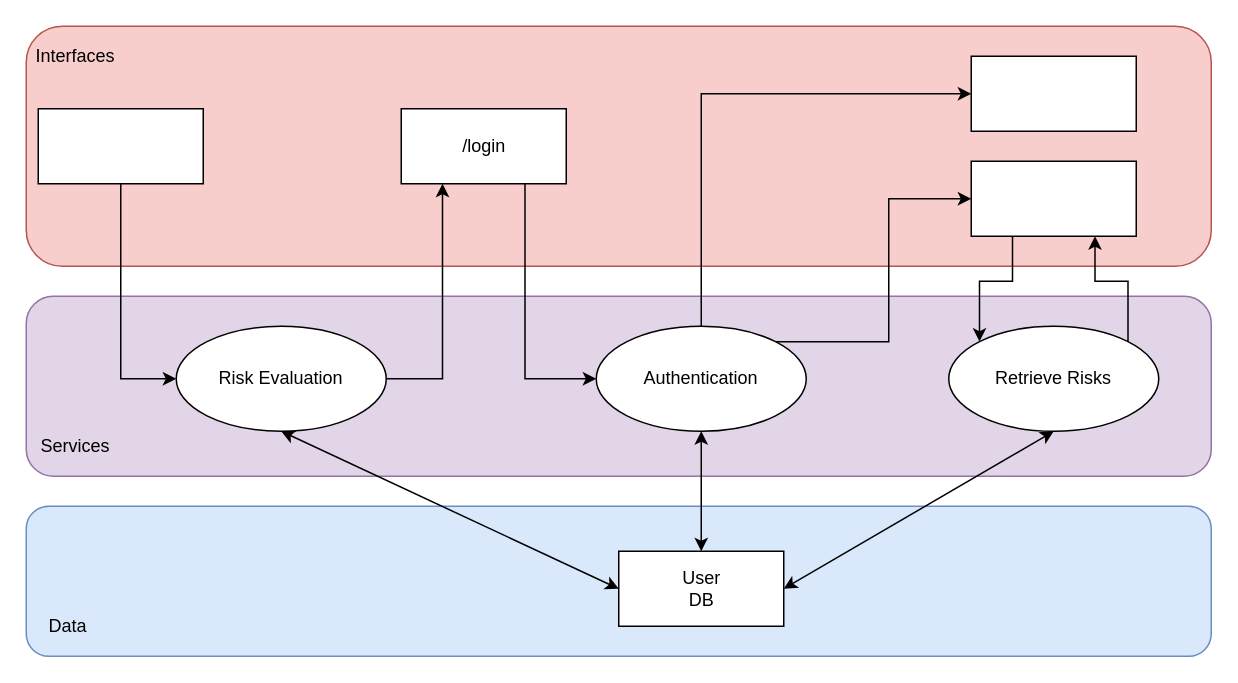
This 1238x683 diagram has some shape labels left out. Each missing label, with the centre of its shape:
"/denied" belongs at point 1053,93.
"/home" belongs at point 120,145.
"/logs" belongs at point 1053,198.
